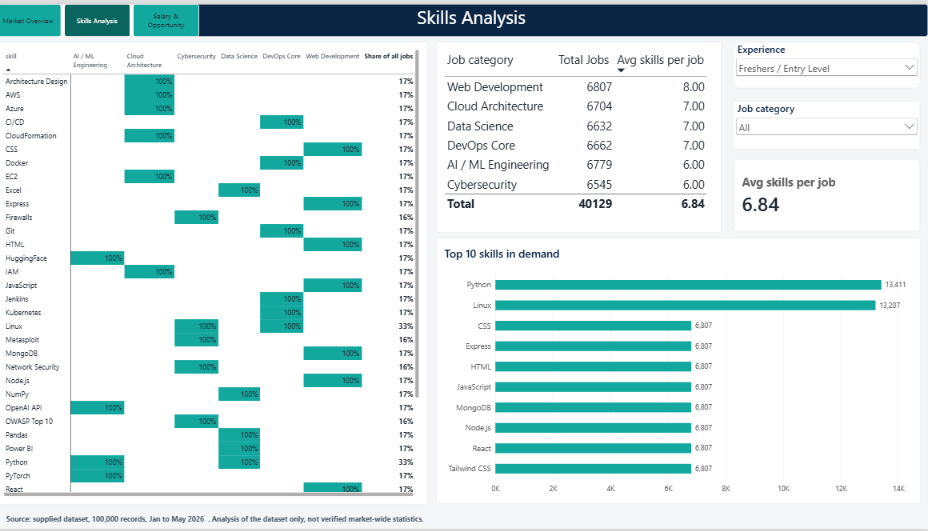

The dashboard page shown, as its layout file describes it:
{"tool":"powerbi","page":{"name":"Skills Analysis","canvas":[1920,1080],"ordinal":1},"visuals":[{"type":"textbox","box":[0,0,1920,67.5],"z":0},{"type":"slicer","fields":{"Values":["jobs.experience_level"]},"box":[1520,77.5,385,95],"z":1000},{"type":"slicer","fields":{"Values":["jobs.job_category"]},"box":[1520,200,385,100],"z":2000},{"type":"clusteredBarChart","title":"Top 10 skills in demand","fields":{"Category":["skills.skill"],"Y":["skills.Skill Demand"]},"box":[907.5,482.5,997.5,547.5],"z":3000},{"type":"pivotTable","fields":{"Columns":["jobs.job_category"],"Rows":["skills.skill"],"Values":["skills.Skill Demand %"]},"box":[0,77.5,890,952.5],"z":4000},{"type":"cardVisual","fields":{"Data":["Avg(jobs.skill_count)"]},"box":[1520,320,385,150],"z":5000},{"type":"tableEx","fields":{"Values":["jobs.job_category","all_measure.Total Jobs","Avg(jobs.skill_count)"]},"box":[907.5,77.5,587.5,392.5],"z":6000},{"type":"textbox","box":[18.5,1049.7,1169.1,30.9],"z":7000},{"type":"pageNavigator","box":[0,0,420,68],"z":7001}]}

Visuals, with their boxes on the page's 1920x1080 design canvas (x1, y1, x2, y2). These are canvas units, not pixel positions in the 928x531 screenshot, which may show the page scaled, cropped or inside an application window:
textbox: (x1=0, y1=0, x2=1920, y2=68)
slicer - jobs.experience_level: (x1=1520, y1=78, x2=1905, y2=172)
slicer - jobs.job_category: (x1=1520, y1=200, x2=1905, y2=300)
"Top 10 skills in demand" clusteredBarChart: (x1=908, y1=482, x2=1905, y2=1030)
pivotTable - jobs.job_category x skills.skill: (x1=0, y1=78, x2=890, y2=1030)
cardVisual - Avg(jobs.skill_count): (x1=1520, y1=320, x2=1905, y2=470)
tableEx - jobs.job_category x all_measure.Total Jobs: (x1=908, y1=78, x2=1495, y2=470)
textbox: (x1=18, y1=1050, x2=1188, y2=1081)
pageNavigator: (x1=0, y1=0, x2=420, y2=68)
